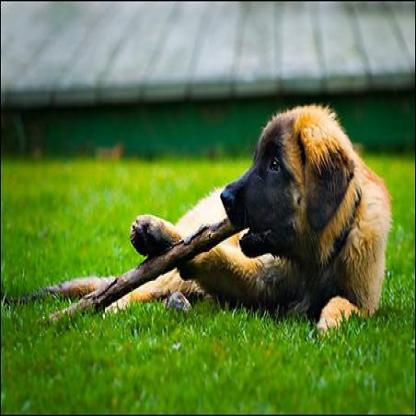Leonberg: (39, 100, 391, 328)
